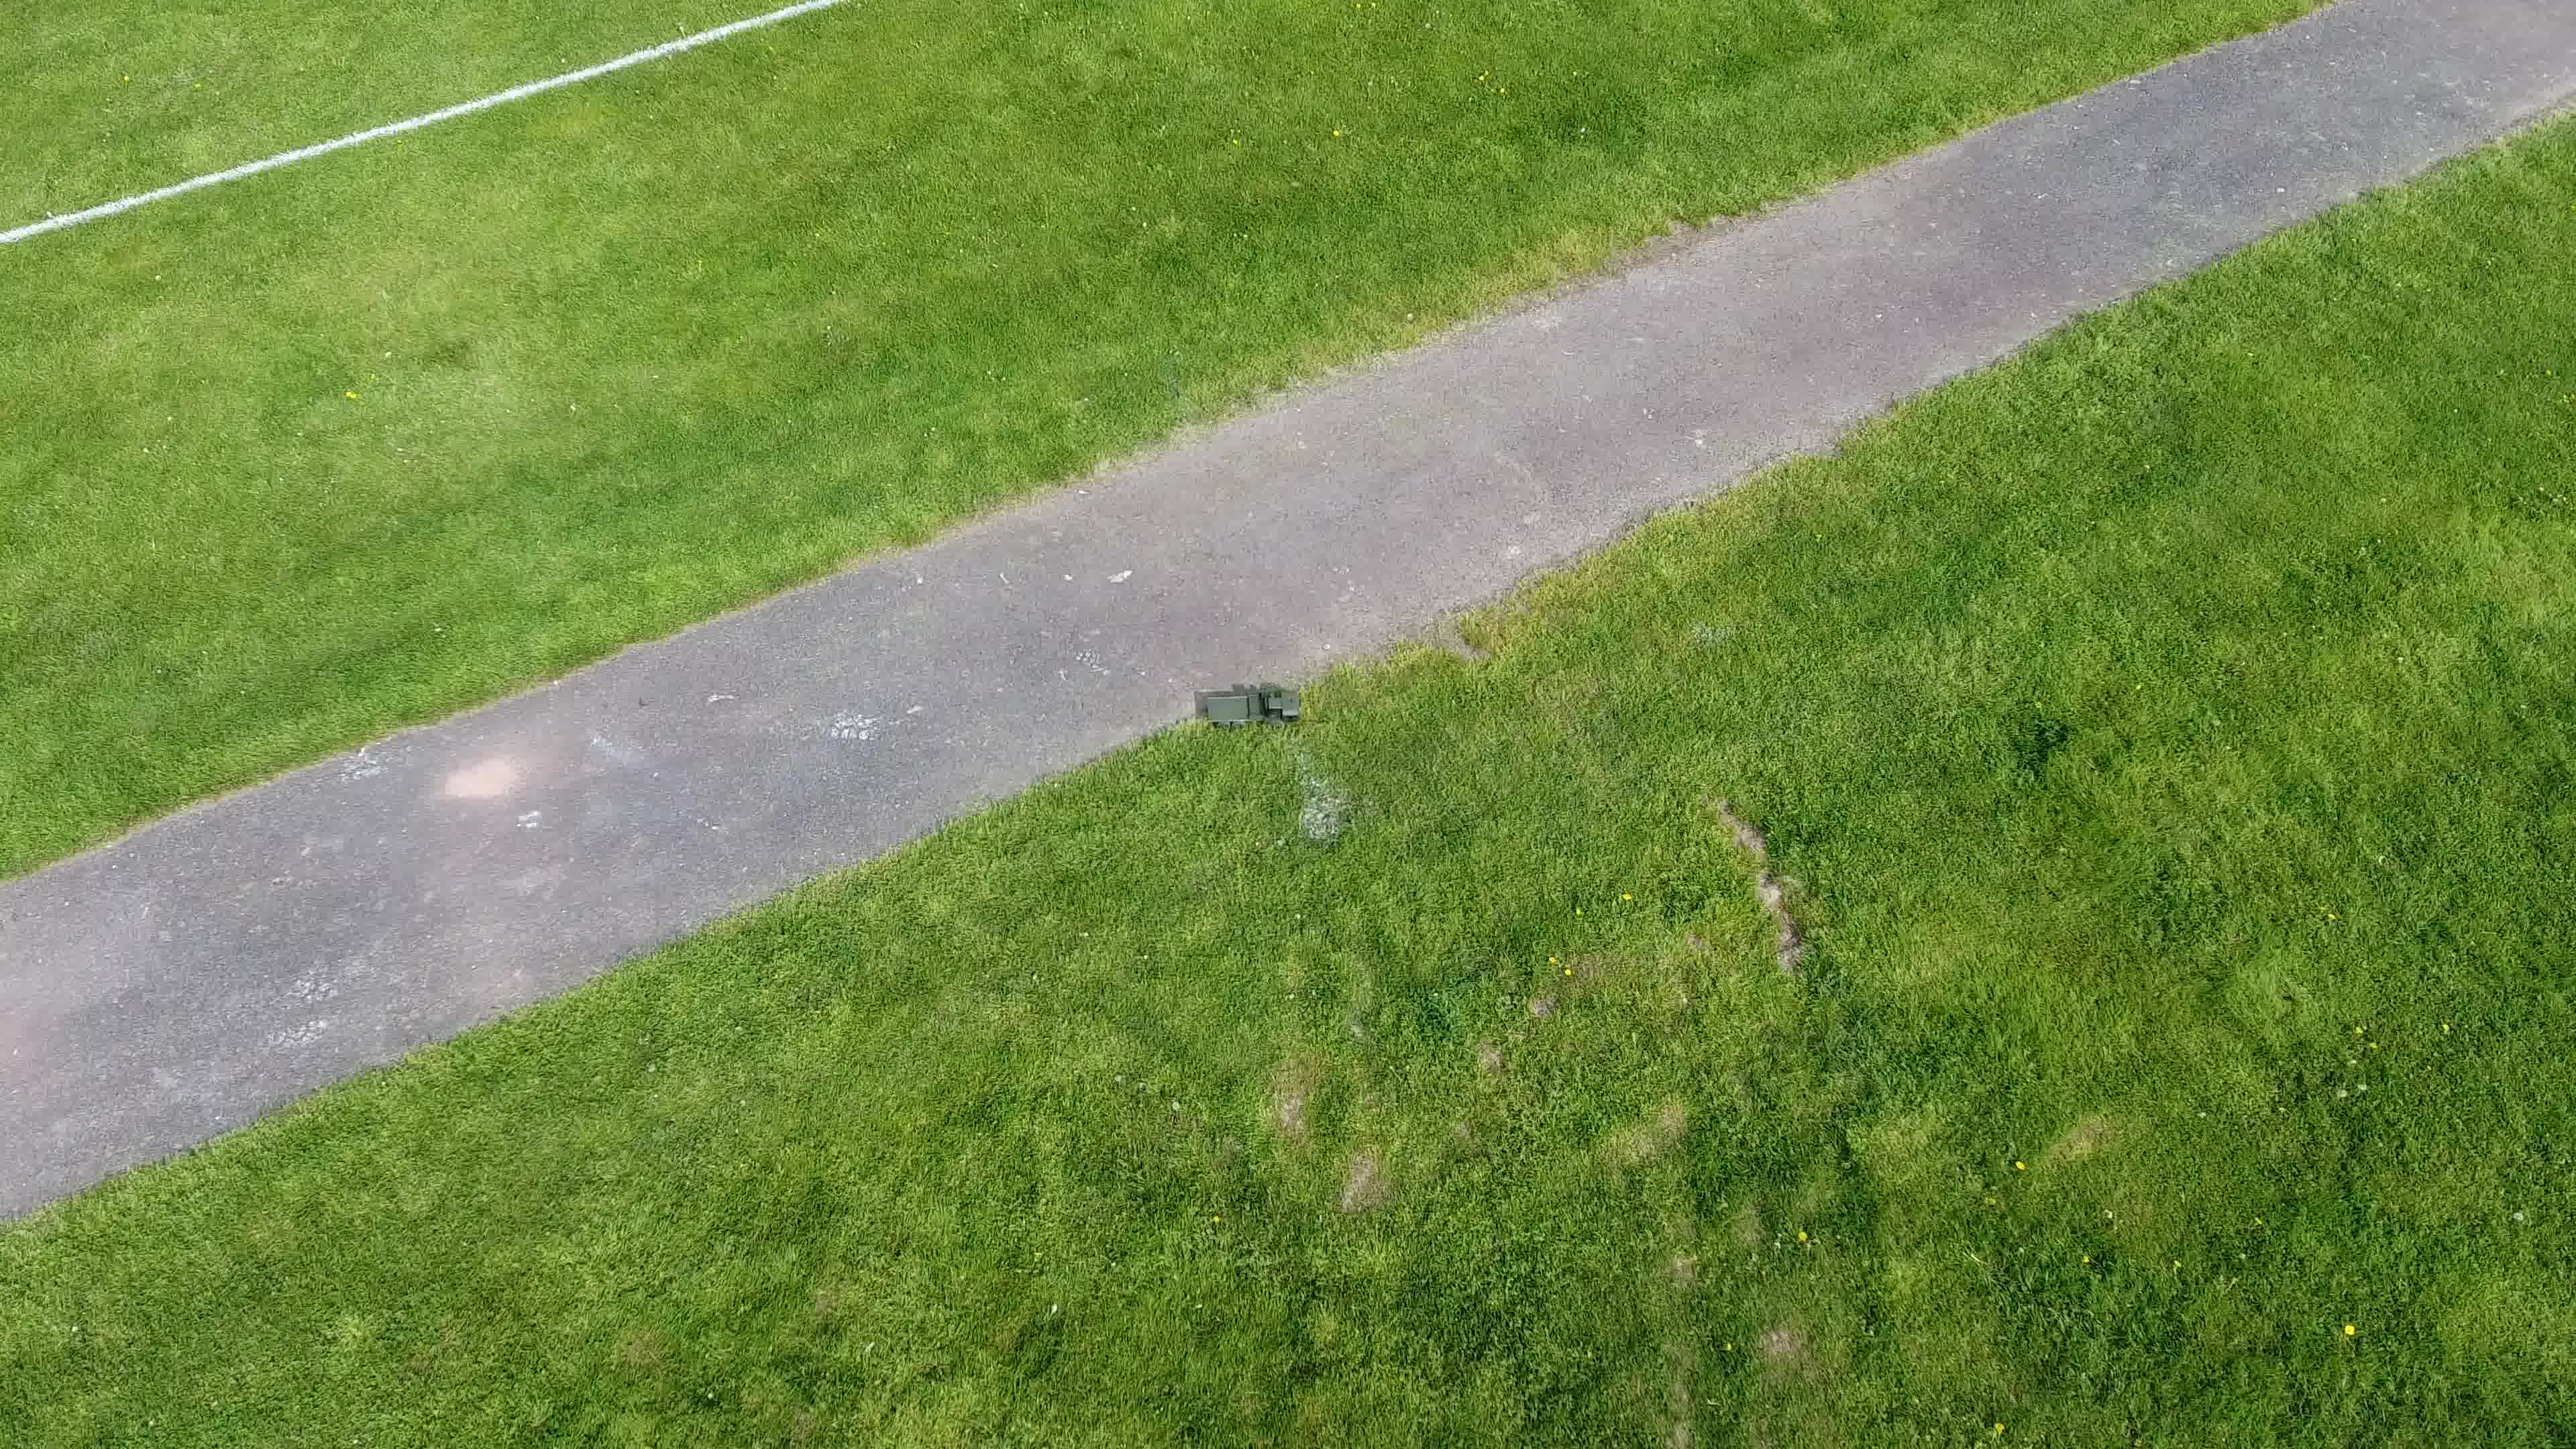transporter9: (1201, 686, 1306, 732)
